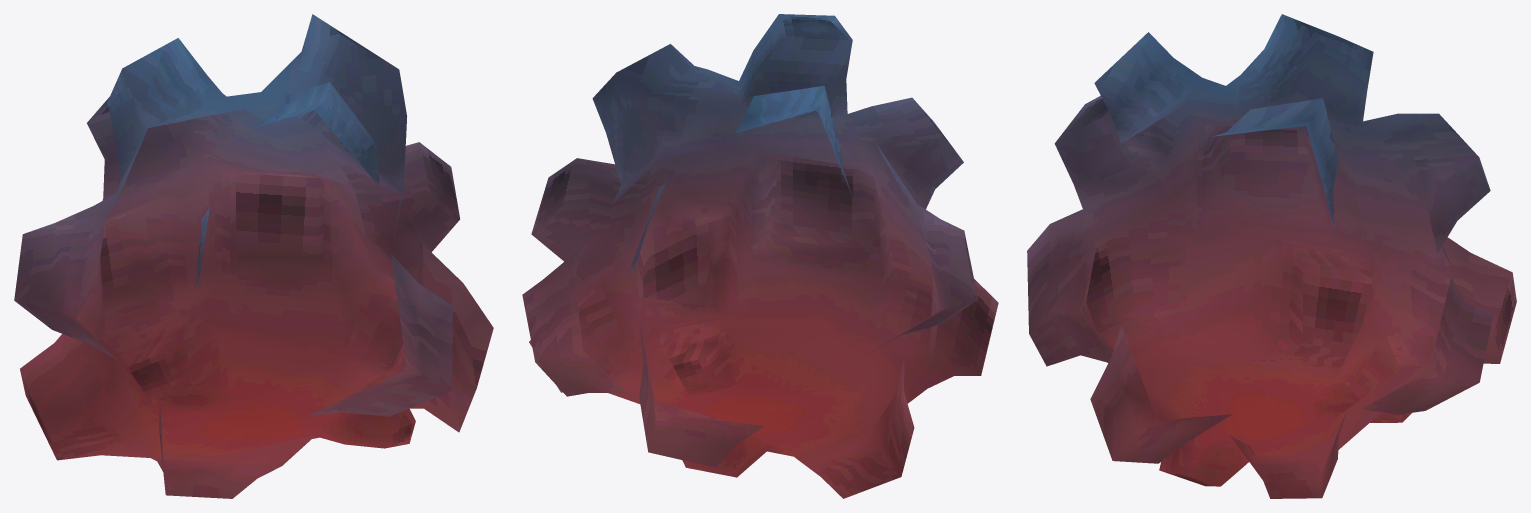
File: ps2_save-icons_ultramanfightingevolutionrebirth.glb
3 views of the same model, side by side, from view 1: azimuth 30°, elevation 25°; view 2: azimuth 150°, elevation 25°; view 3: azimuth 270°, elevation 25° (orthographic). The views are drawn at different scales.
Visible parts, largest first — view 1: ultra4.ico; view 2: ultra4.ico; view 3: ultra4.ico.
Boxes of the visible parts, x1=… form: ultra4.ico: x1=14, y1=14, x2=493, y2=498; ultra4.ico: x1=522, y1=14, x2=998, y2=498; ultra4.ico: x1=1027, y1=14, x2=1516, y2=498.
Size of the model in its own units: 4.46 by 3.95 by 4.5.
Materials: 1 (1 with a texture image).
